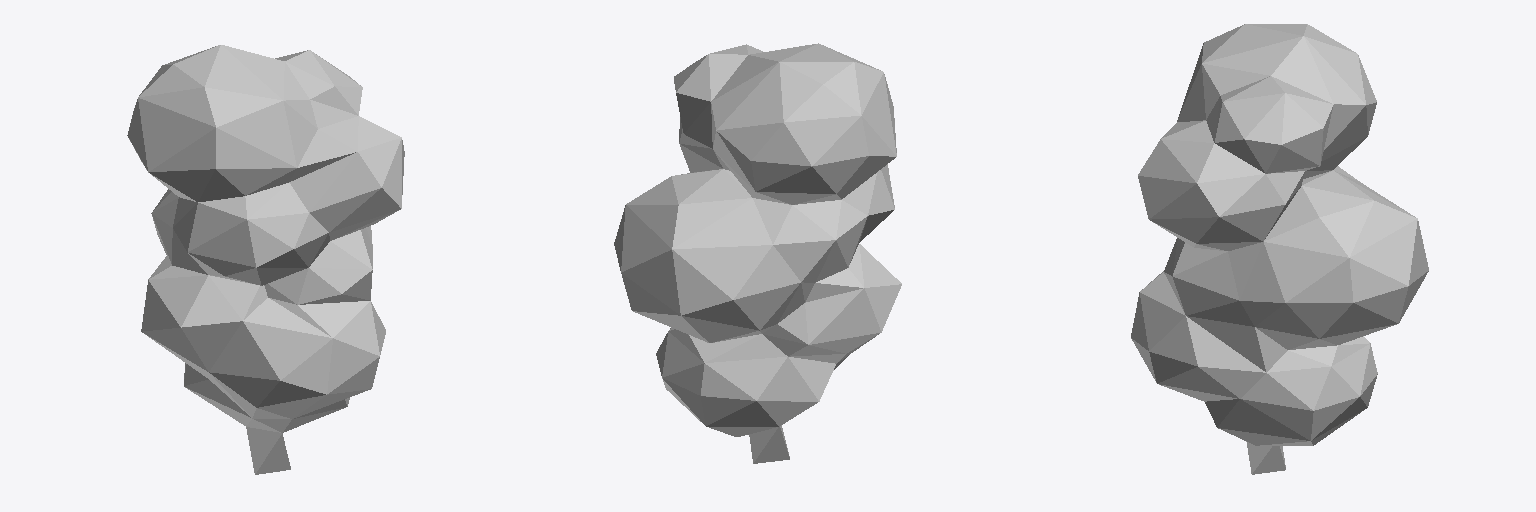
File: Tree7.obj
3 views of the same model, side by side, from view 1: azimuth 30°, elevation 25°; view 2: azimuth 150°, elevation 25°; view 3: azimuth 270°, elevation 25° (orthographic).
Visible parts, largest first — view 1: Tree_Icosphere.004; view 2: Tree_Icosphere.004; view 3: Tree_Icosphere.004.
Part boxes in pixels (left/top/right/bottom): Tree_Icosphere.004: left=127, top=45, right=404, bottom=474; Tree_Icosphere.004: left=614, top=43, right=901, bottom=463; Tree_Icosphere.004: left=1131, top=24, right=1428, bottom=474.
Size of the model in its own units: 11.54 by 19.43 by 12.61.